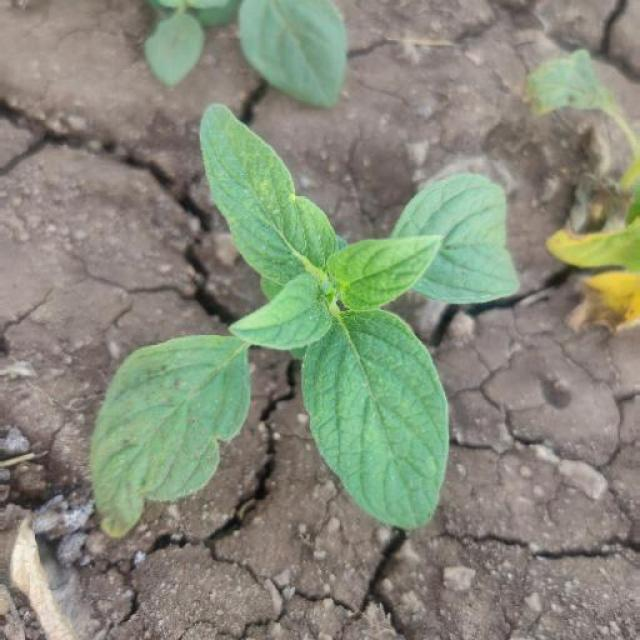crop: (93, 95, 515, 529)
